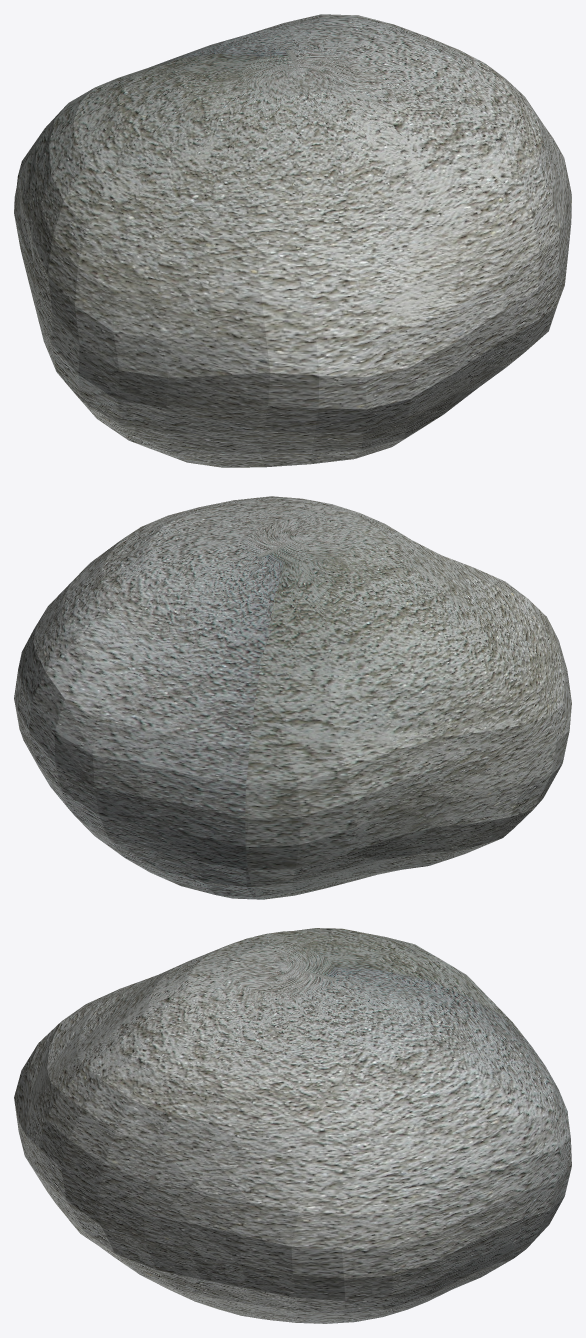
The model's file is stone2.obj.
The picture shows the model from 3 angles, top to bottom: view 1: azimuth 30°, elevation 25°; view 2: azimuth 150°, elevation 25°; view 3: azimuth 270°, elevation 25°; orthographic projection. The views are drawn at different scales.
Visible parts, largest first — view 1: Sphere001; view 2: Sphere001; view 3: Sphere001.
Boxes of the visible parts, <box> form: Sphere001: <box>14,14,571,467</box>; Sphere001: <box>14,496,571,899</box>; Sphere001: <box>14,928,571,1323</box>.
Size of the model in its own units: 4.91 by 3.14 by 4.93.
